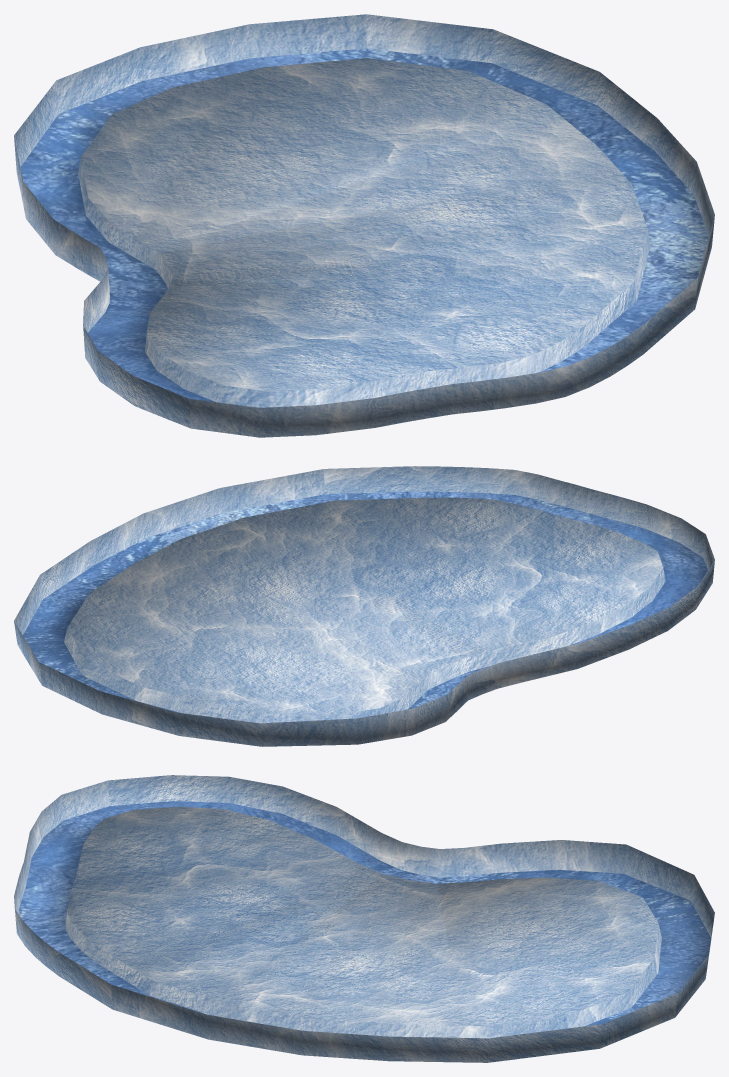
File: Racetrack.fbx
3 views of the same model, one above another, from view 1: azimuth 30°, elevation 25°; view 2: azimuth 150°, elevation 25°; view 3: azimuth 270°, elevation 25° (orthographic). The views are drawn at different scales.
Visible parts, largest first — view 1: Plane; view 2: Plane; view 3: Plane.
Boxes of the visible parts, left/top/right/bottom form: Plane: left=14, top=14, right=714, bottom=437; Plane: left=14, top=466, right=714, bottom=746; Plane: left=14, top=775, right=714, bottom=1062.
Bounding box in the file's own units: 2490 × 236 × 2827.
